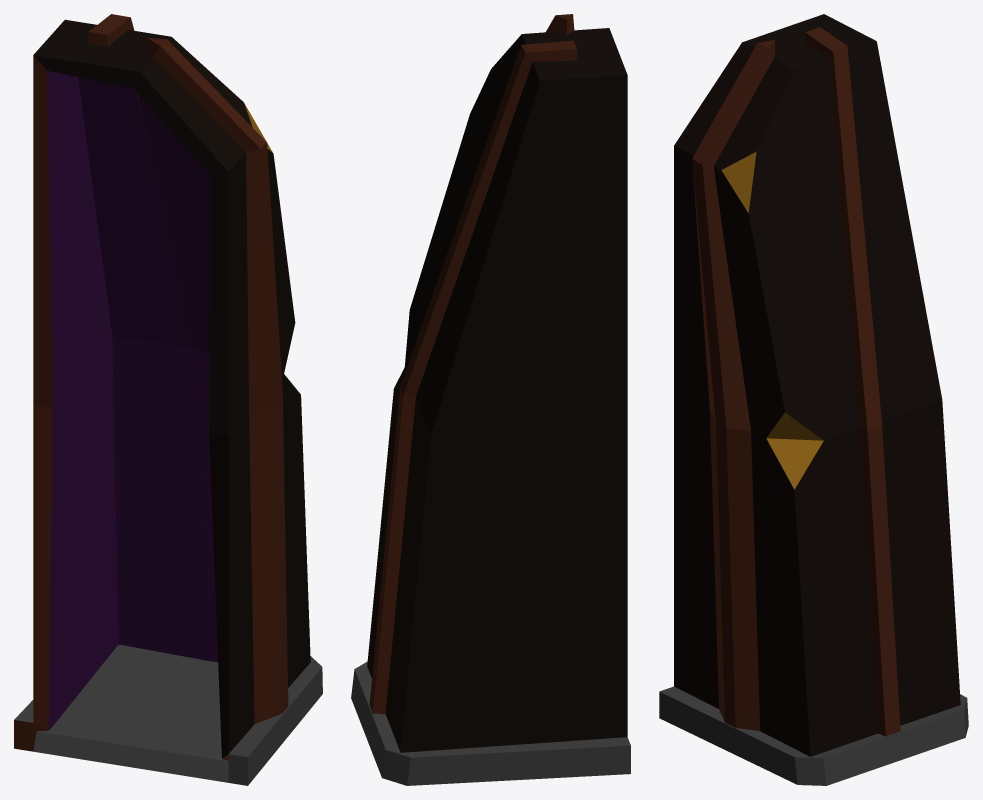
File: Sarg_3_L_Tür.obj
3 renders of one model, left to right at view 1: azimuth 30°, elevation 25°; view 2: azimuth 150°, elevation 25°; view 3: azimuth 270°, elevation 25°, orthographic. The views are drawn at different scales.
Visible parts, largest first — view 1: Sarg_3_L; view 2: Sarg_3_L; view 3: Sarg_3_L.
Part boxes in pixels (box(x1,y1,x2,y2)): Sarg_3_L: box(14, 14, 322, 785); Sarg_3_L: box(351, 14, 630, 785); Sarg_3_L: box(659, 14, 968, 785).
Size of the model in its own units: 1.12 by 2.63 by 1.12.
